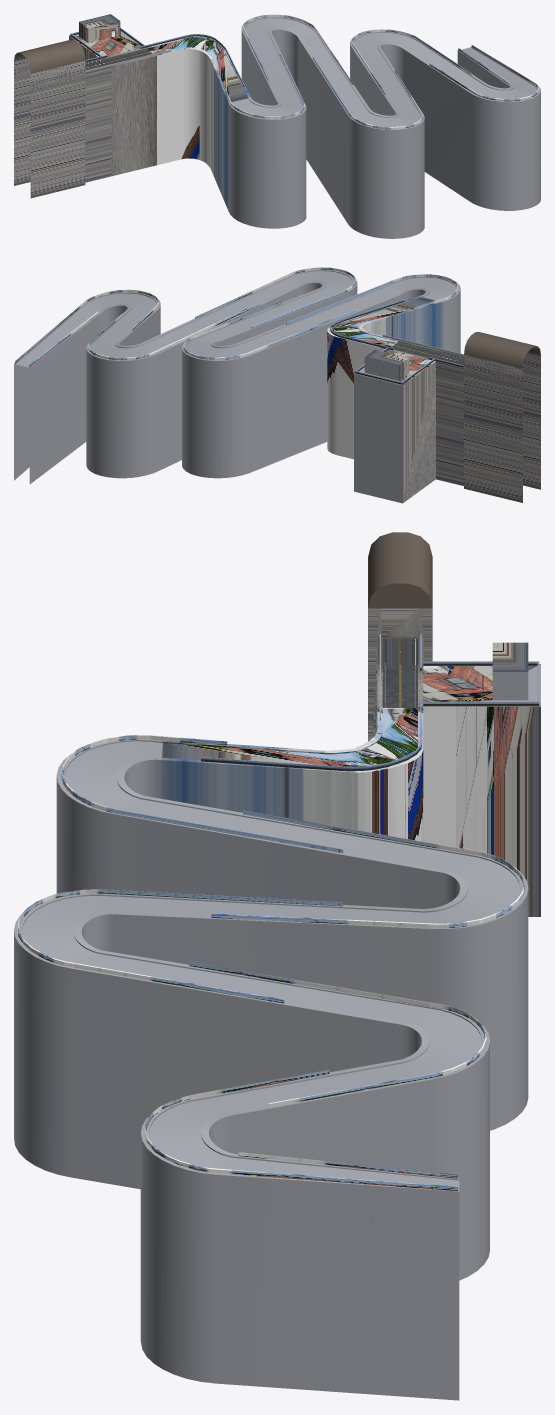
File: post-office-collision.fbx
3 renders of one model, top to bottom at view 1: azimuth 30°, elevation 25°; view 2: azimuth 150°, elevation 25°; view 3: azimuth 270°, elevation 25°, orthographic. The views are drawn at different scales.
Parts seen in each view (by area): view 1: Plane.026; view 2: Plane.026; view 3: Plane.026.
Part boxes in pixels (x1,y1,x2,y2): Plane.026: (14, 14, 540, 238); Plane.026: (14, 267, 540, 503); Plane.026: (14, 532, 540, 1400).
Size of the model in its own units: 29012 by 13425 by 14825.
